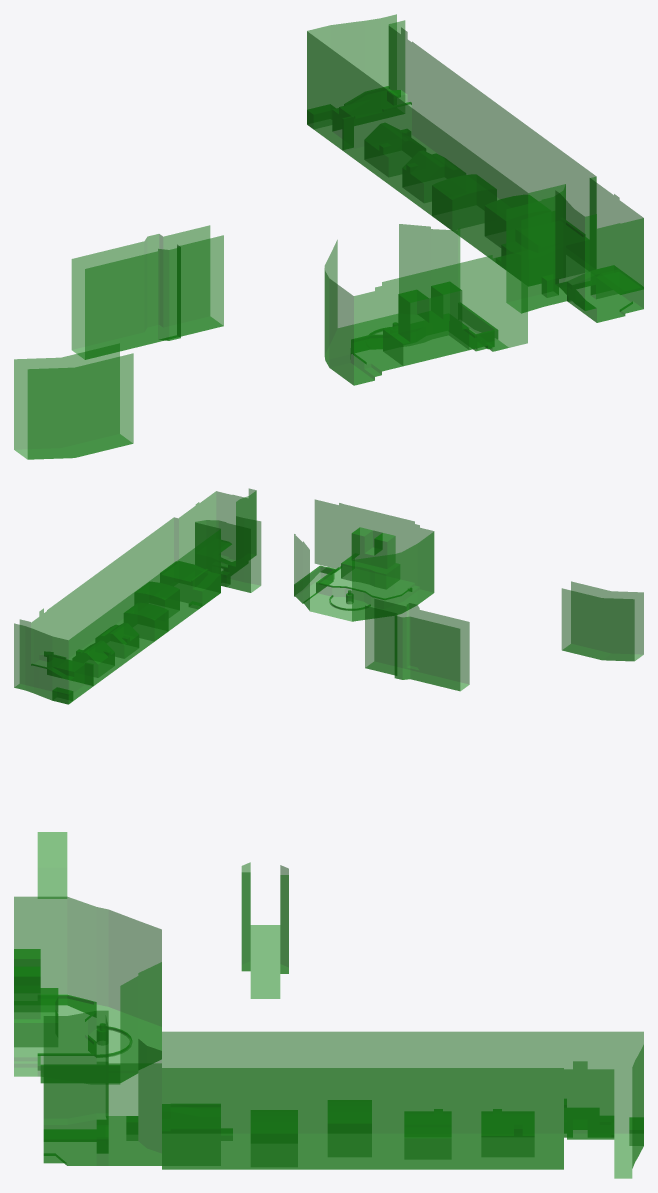
Rendered from hit.obj.
3 views of the same model, one above another, from view 1: azimuth 30°, elevation 25°; view 2: azimuth 150°, elevation 25°; view 3: azimuth 270°, elevation 25° (orthographic). The views are drawn at different scales.
Size of the model in its own units: 273 by 48.3 by 213.
